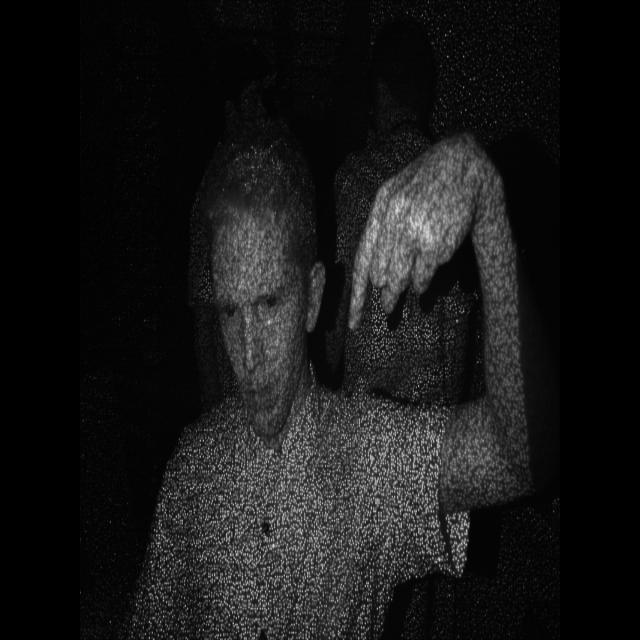Q: (340, 116, 482, 340)
